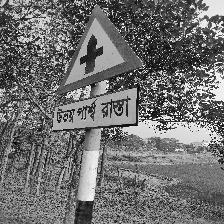Crossroad: (45, 6, 148, 134)
